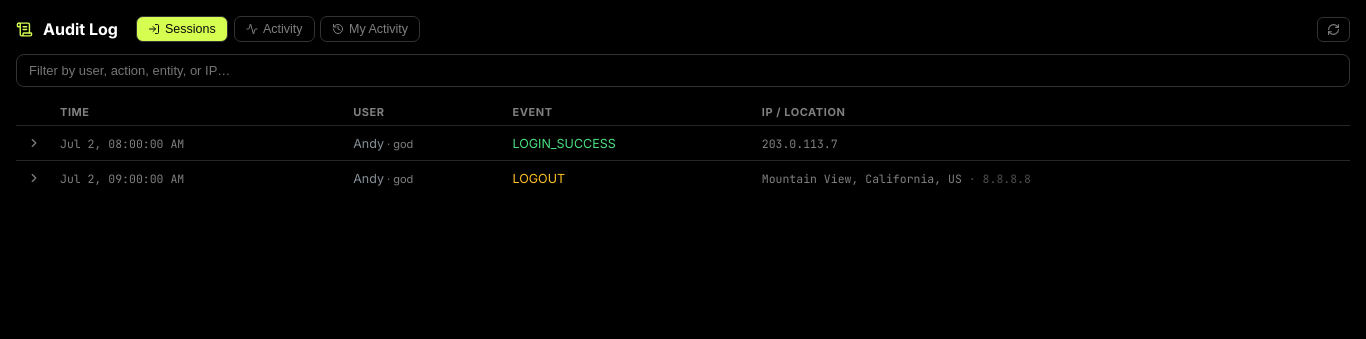
it: AuditLogWidget expandable rows (plan 038) › expanding a Sessions row with a resolved location reveals it in the expanded panel
The image size is (1366, 339).
Expected: the text "LOGOUT" is shown, [504,160,754,195]
Click the button named "Expand row for Andy LOGOUT" at x=34, y=178, box [24,168,44,188]
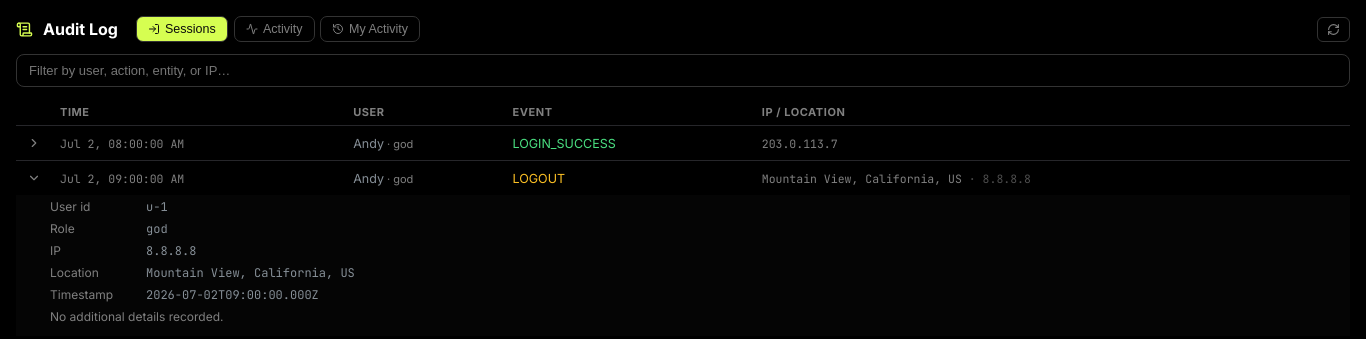
Expected: the text "2026-07-02T09:00:00.000Z" is shown, [146,287,319,303]
